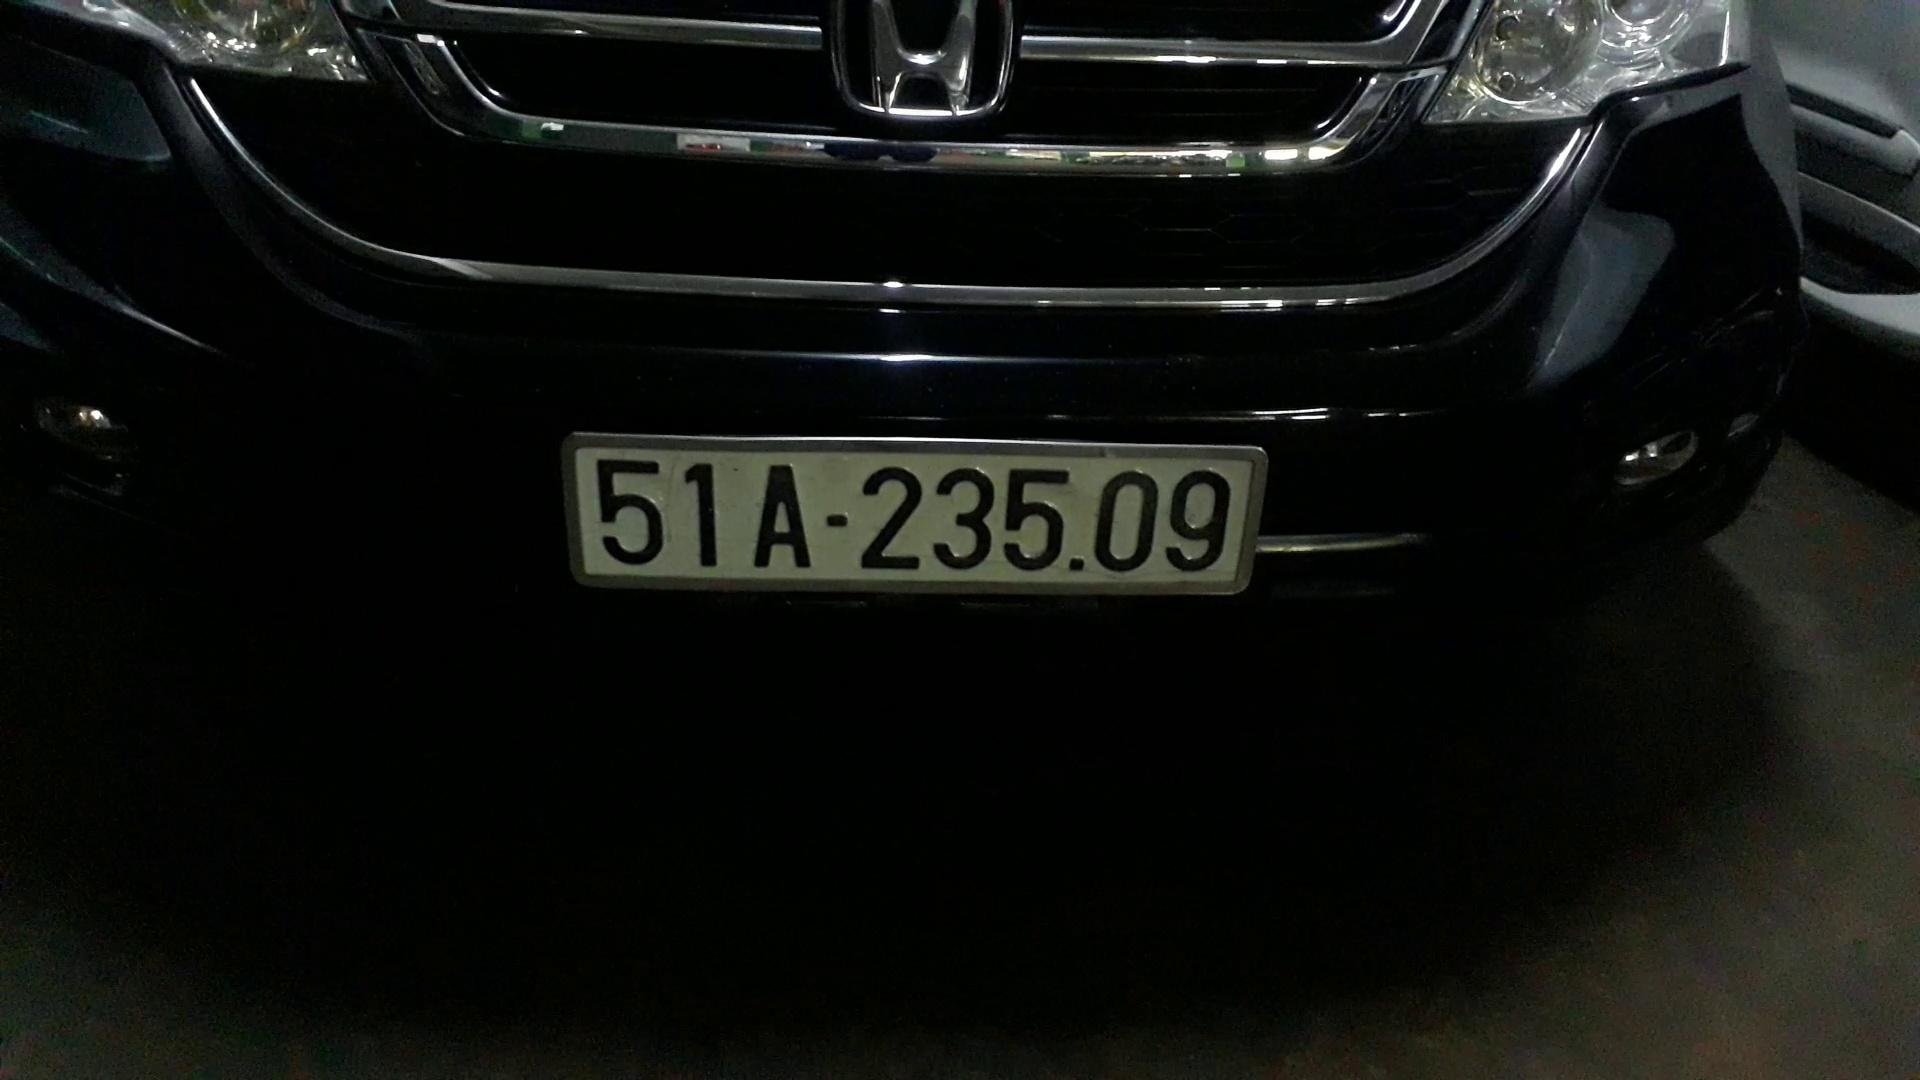numplate: (580, 420, 1327, 613)
